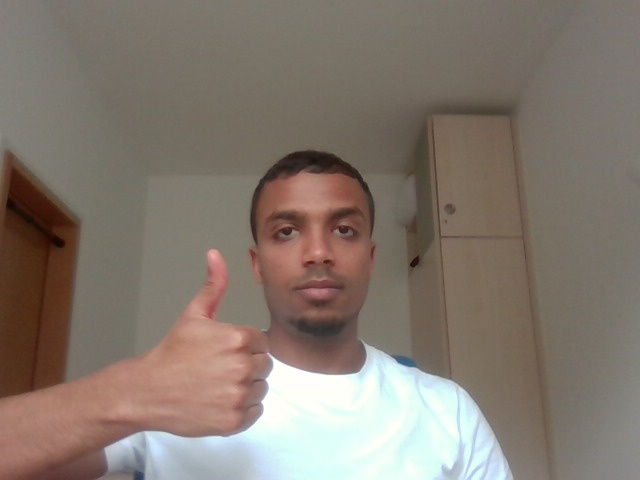yes: (137, 234, 276, 450)
